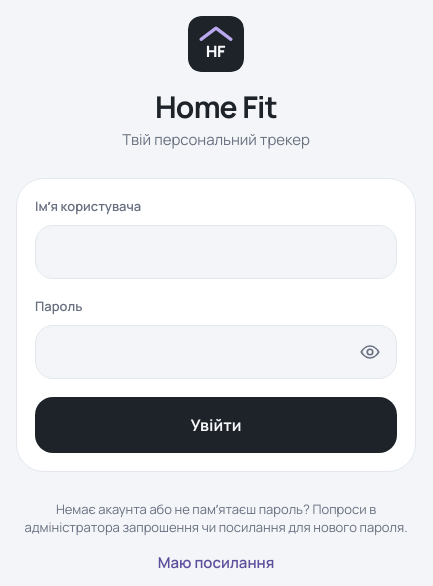
Test: LoginScreen › submits the name and the password and shows the loading state
Type " olya " into the field labelled "Імʼя користувача" at (216, 252), box [35,225,397,279]
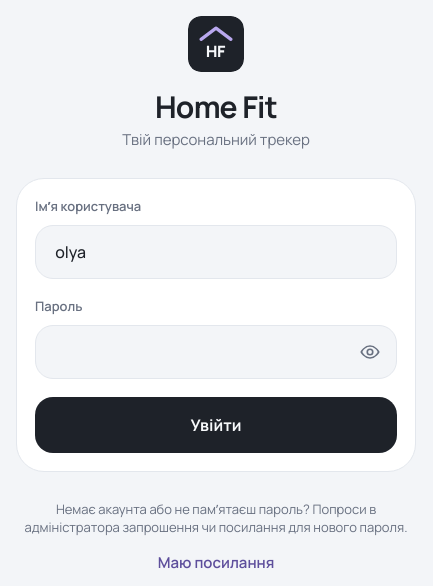
Type "секрет-123" into the password field labelled "Пароль" at (216, 352), box [35,325,397,379]
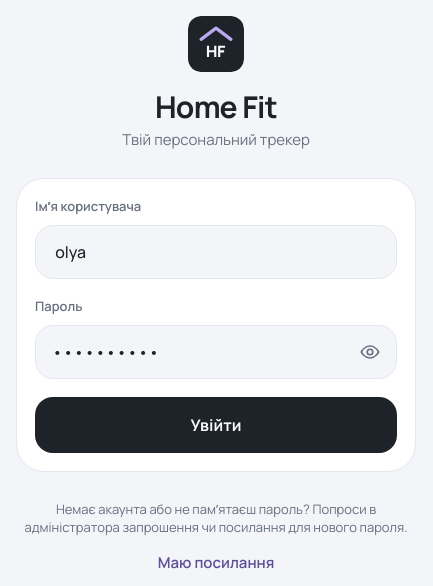
Click the button "Увійти" at (216, 425), box [35,397,397,453]
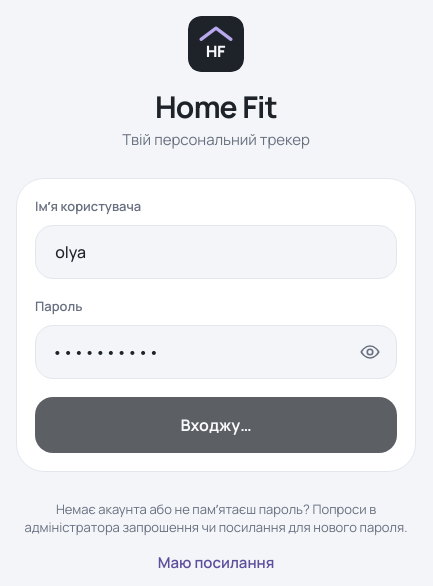
Check: the button "Входжу…" is shown, box [35,397,397,453]
Check: the button "Входжу…" is disabled, box [35,397,397,453]
